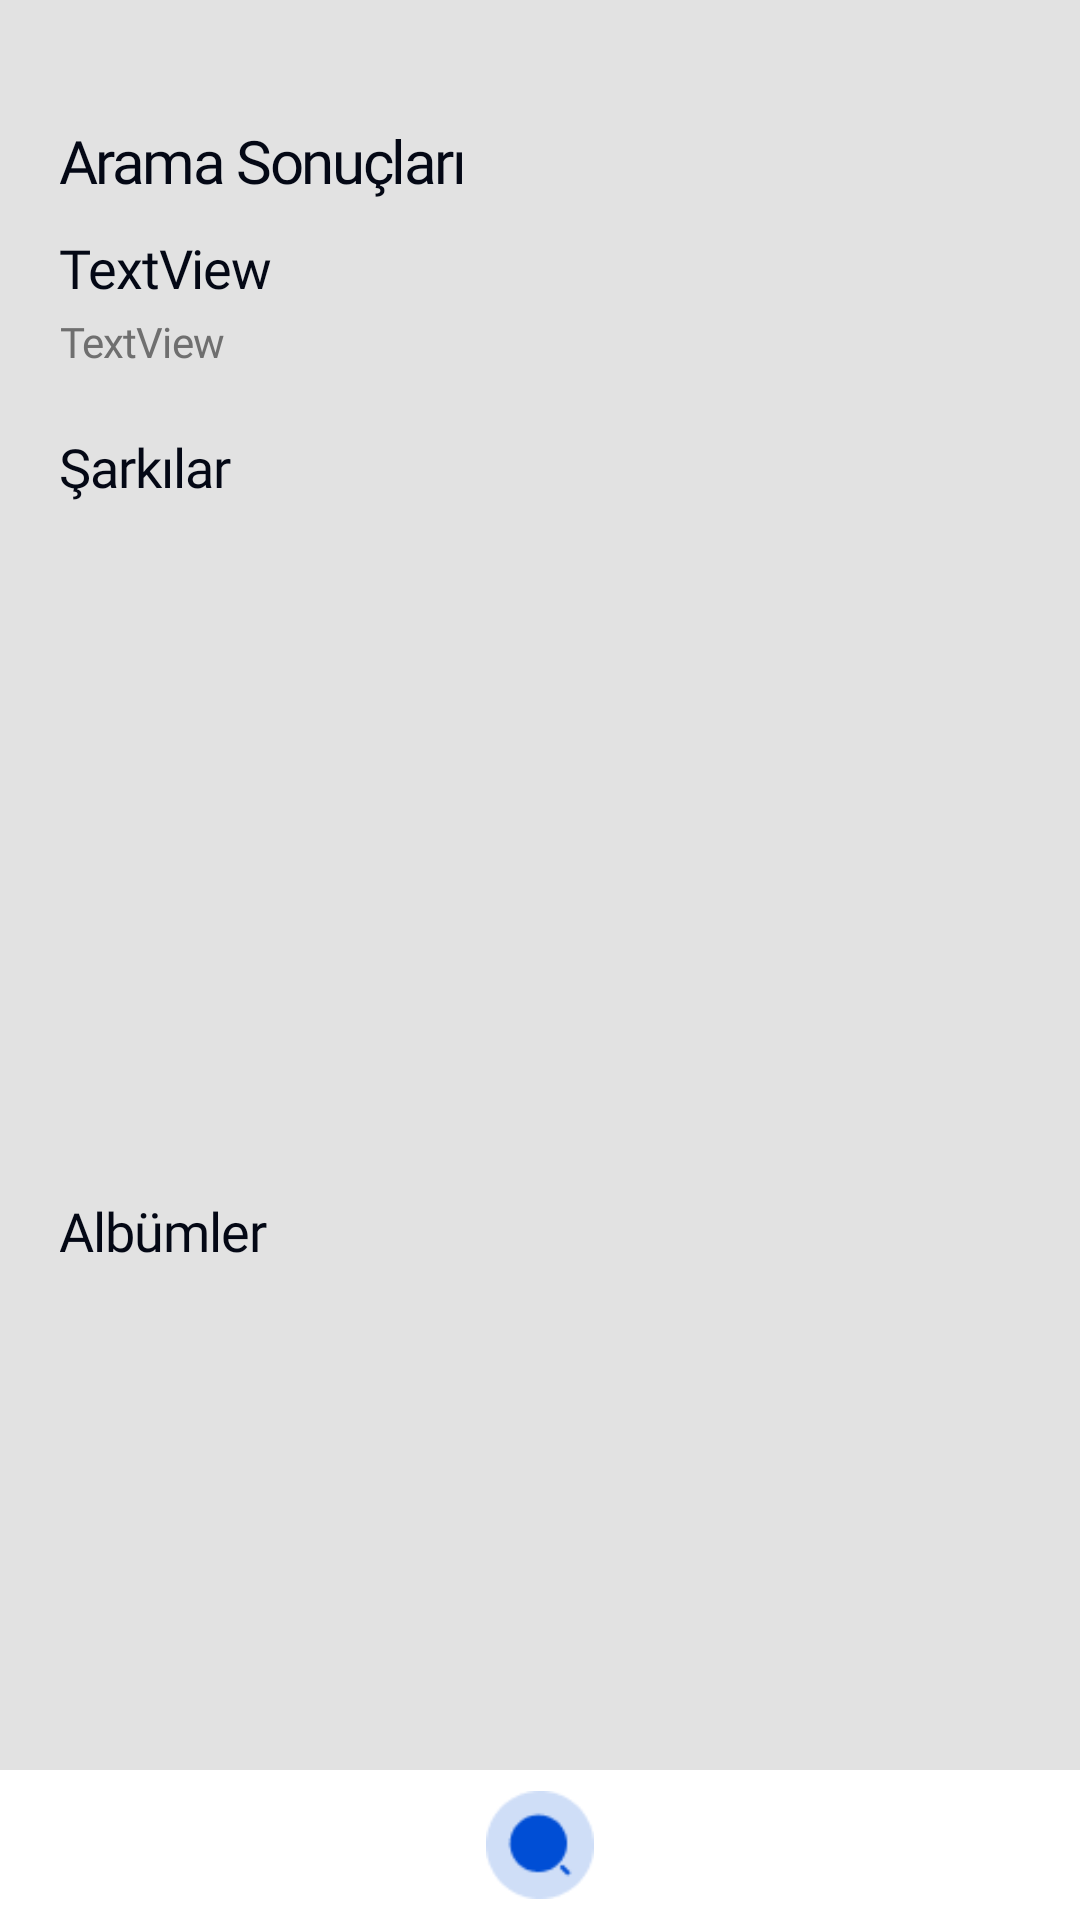

Locate icon controls on the screen. Image size 1080px×1920px, boxes as (x1, y1, x2, y2).
search: (486, 1791, 594, 1899)
